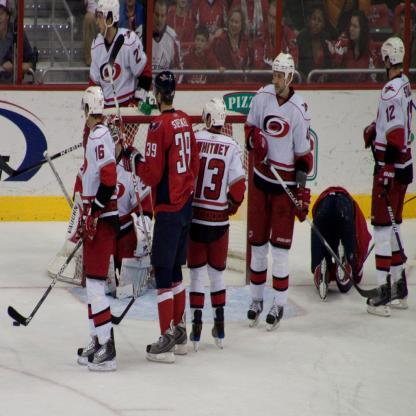Helmet: (75, 83, 103, 126), (196, 100, 230, 133), (274, 49, 301, 90), (153, 68, 179, 106), (377, 38, 404, 74), (93, 0, 122, 27)
